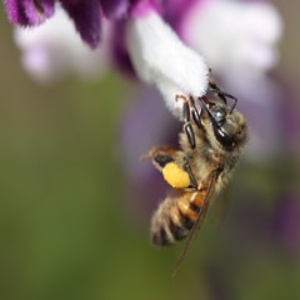bee: (144, 66, 255, 282)
